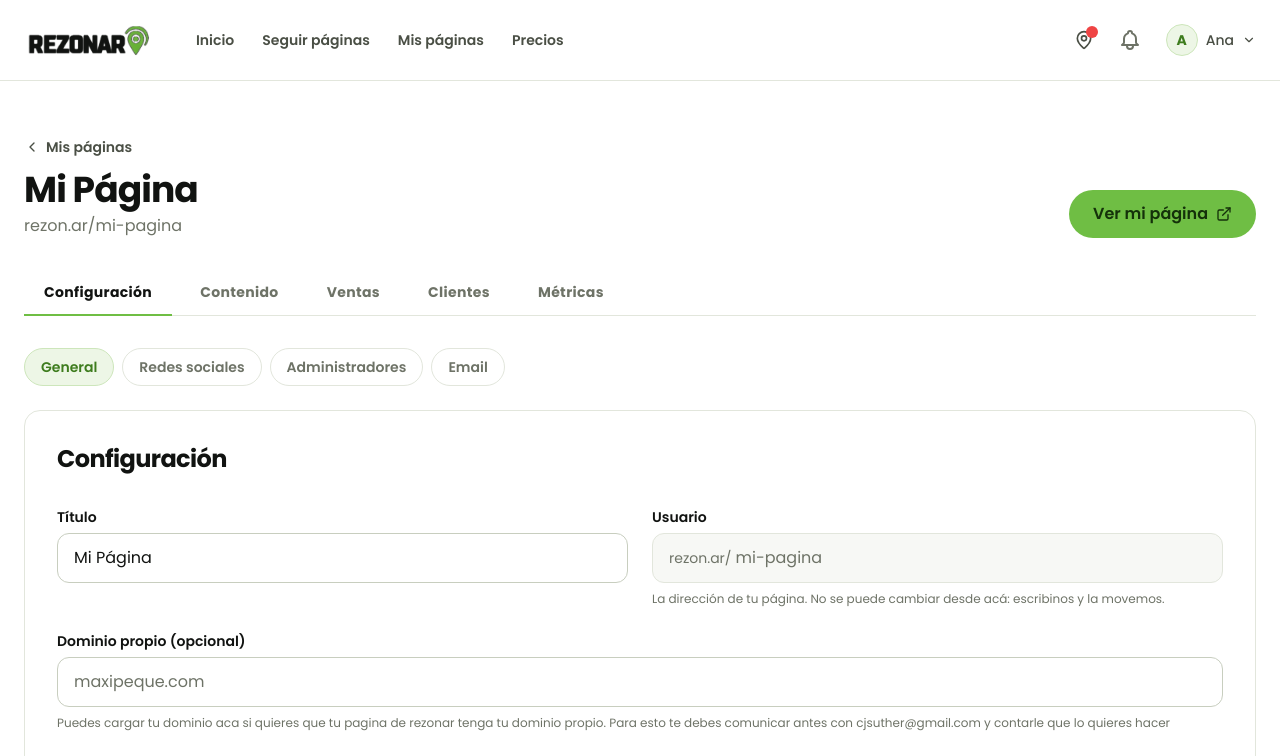
Test: PageEditor — flujos de edición › grupos › las acciones del grupo existen una sola vez y siempre visibles
The width and height of the screenshot is (1280, 756).
Expected: the heading "Mi Página" is shown, [24, 170, 198, 210]
Click the button "Contenido".
click(239, 293)  # box [180, 270, 299, 316]
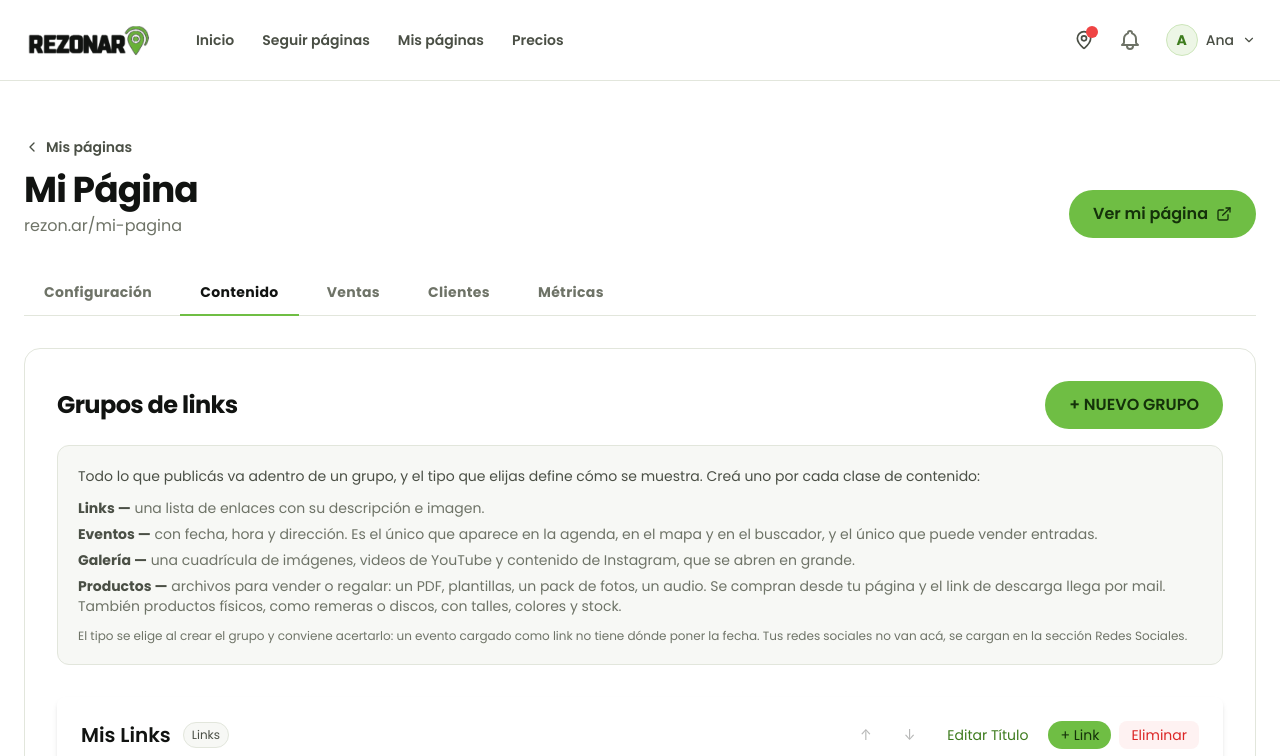
Result: the heading "Grupos de links" is shown at [57, 389, 238, 421]
Result: the number of buttons "Editar Título" is 1 at [935, 721, 1040, 749]
Result: the number of buttons "Eliminar" is 1 at [1119, 721, 1199, 749]
